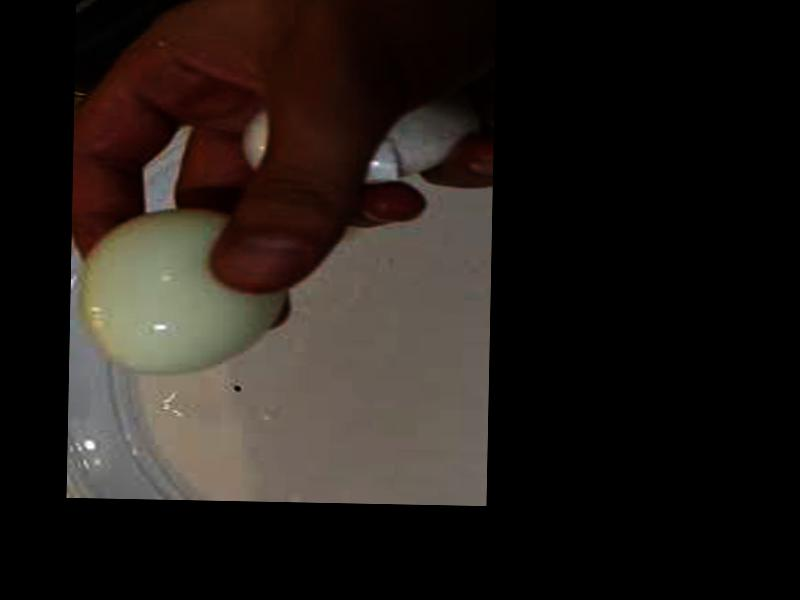Eggs: (72, 206, 290, 372)
